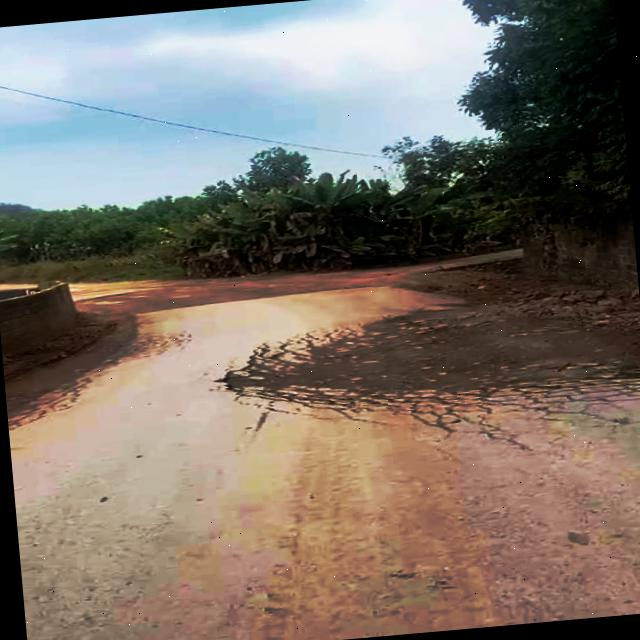pothole: (201, 284, 640, 423)
